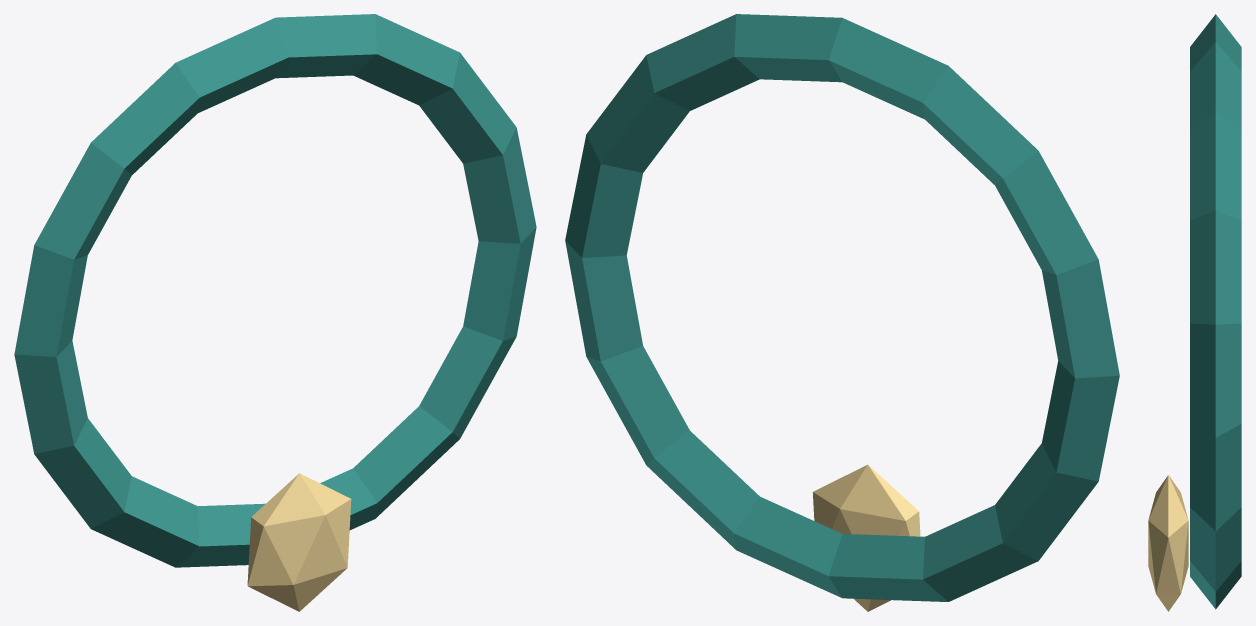
The model's file is pet_collar.glb.
3 views of the same model, side by side, from view 1: azimuth 30°, elevation 25°; view 2: azimuth 150°, elevation 25°; view 3: azimuth 270°, elevation 25° (orthographic). The views are drawn at different scales.
Parts seen in each view (by area): view 1: collar, tag; view 2: collar, tag; view 3: collar, tag.
Part boxes in pixels (box(x1,y1,x2,y2)): collar: box(14, 14, 536, 567); tag: box(247, 473, 351, 611); collar: box(565, 14, 1119, 601); tag: box(812, 464, 920, 611); collar: box(1190, 14, 1241, 609); tag: box(1148, 475, 1188, 611).
Size of the model in its own units: 0.63 by 0.665 by 0.0986.
